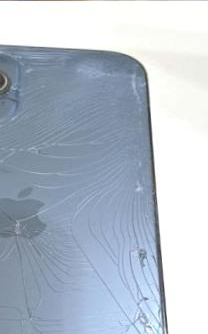physical_damage: (0, 136, 149, 194), (0, 188, 87, 275), (108, 226, 170, 334), (38, 91, 146, 135), (44, 41, 148, 85), (0, 280, 68, 334), (0, 42, 40, 63)
